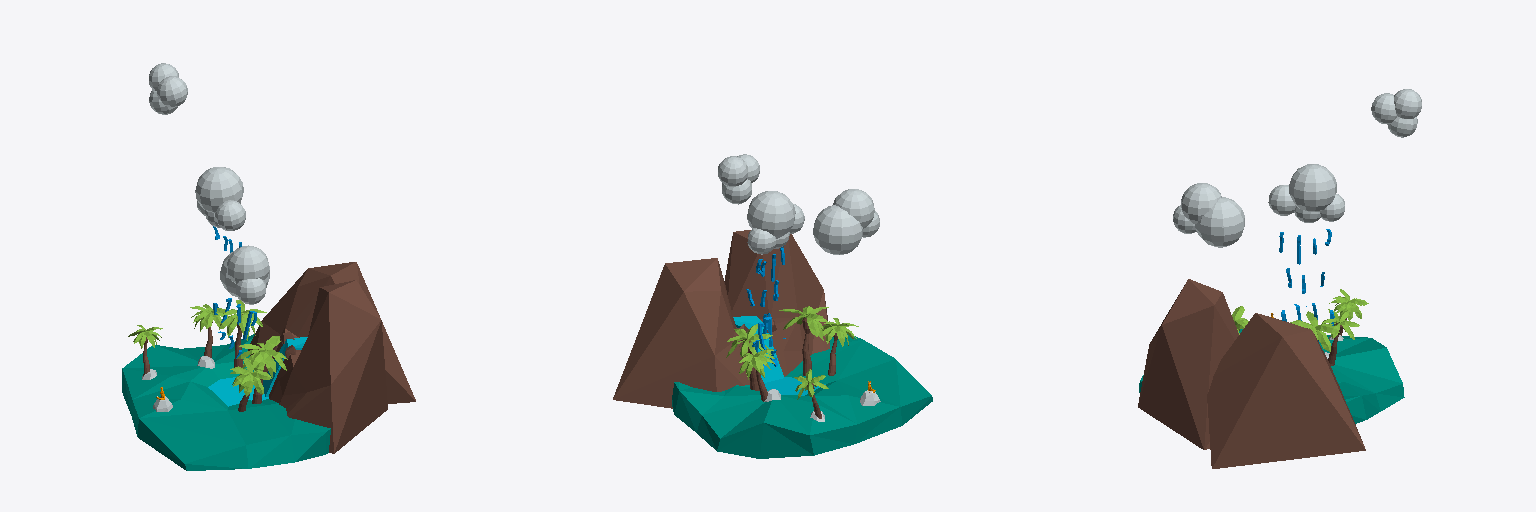
File: model-triangulated.obj
The picture shows the model from 3 angles: view 1: azimuth 30°, elevation 25°; view 2: azimuth 150°, elevation 25°; view 3: azimuth 270°, elevation 25°; orthographic projection.
Visible parts, largest first — view 1: group[number redacted], group[number redacted], group[number redacted], group[number redacted]; view 2: group[number redacted], group[number redacted], group[number redacted], group[number redacted]; view 3: group[number redacted], group[number redacted], group[number redacted], group[number redacted].
Boxes of the visible parts, x1,y1,x2,y2 form: group[number redacted]: [122, 262, 415, 470]; group[number redacted]: [195, 167, 256, 358]; group[number redacted]: [220, 245, 269, 304]; group[number redacted]: [149, 63, 187, 114]; group[number redacted]: [613, 230, 932, 458]; group[number redacted]: [746, 191, 804, 367]; group[number redacted]: [813, 189, 879, 254]; group[number redacted]: [718, 154, 759, 204]; group[number redacted]: [1138, 279, 1404, 468]; group[number redacted]: [1268, 164, 1344, 342]; group[number redacted]: [1173, 183, 1244, 247]; group[number redacted]: [1371, 89, 1421, 137].
Size of the model in its own units: 3.26 by 3.74 by 3.17.